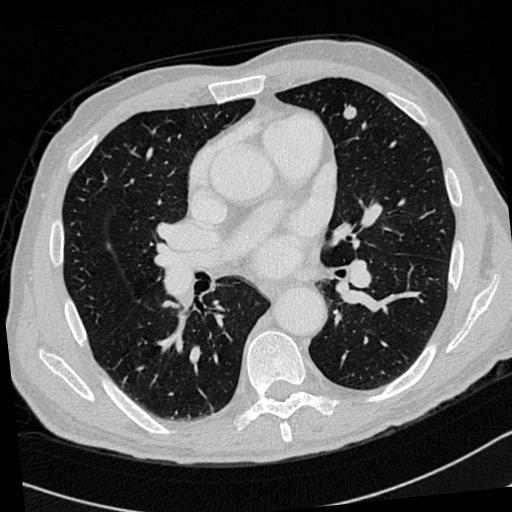nodule: (340, 103, 361, 124)
